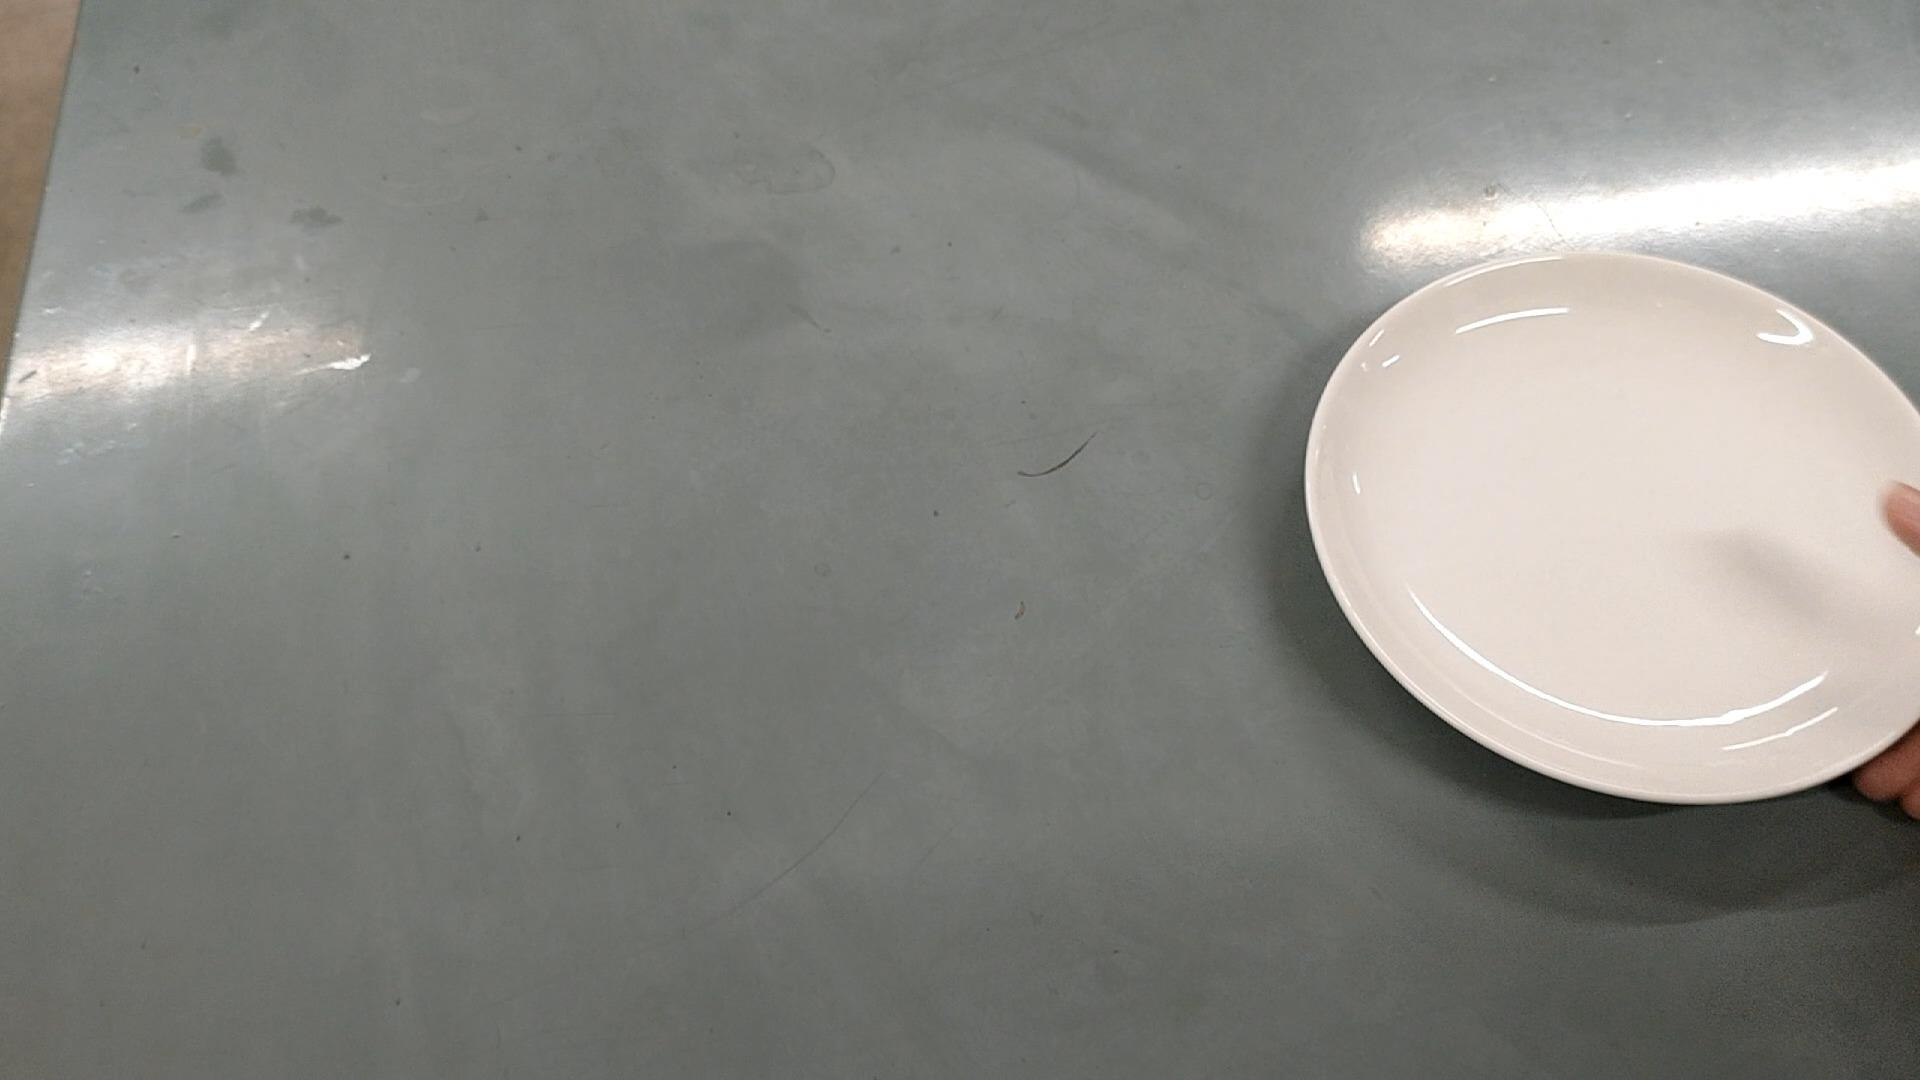plate: (1298, 248, 1920, 807)
